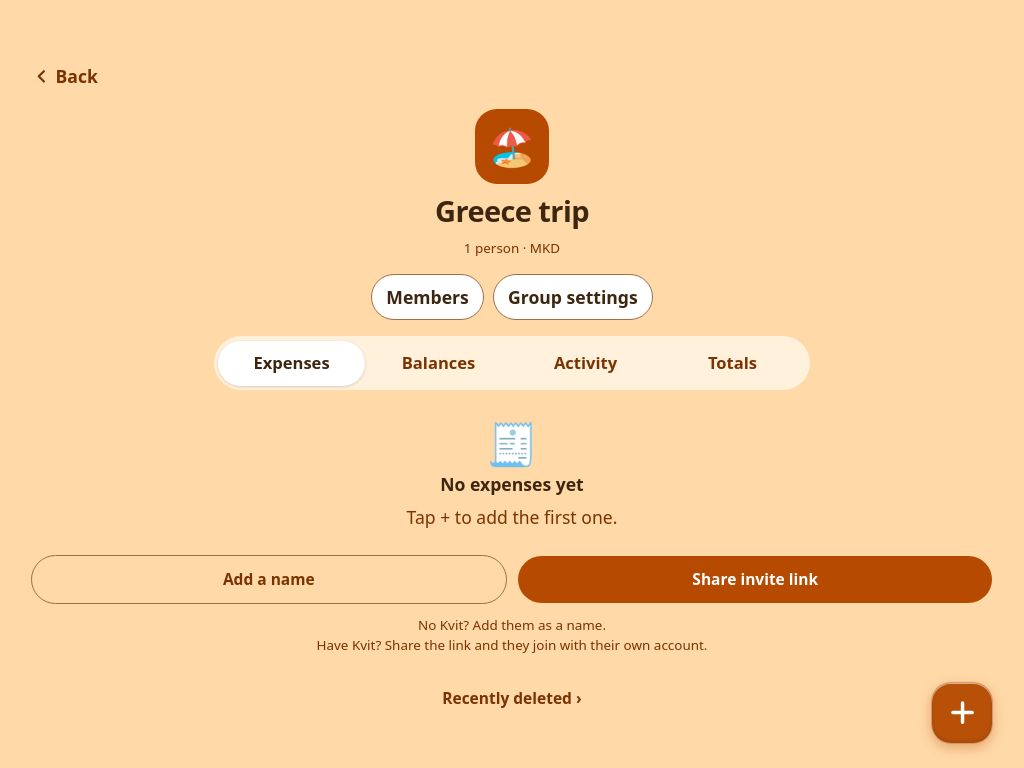
GroupScreen › adding a name › opens a sheet with the name field, its hint and the Add button when Add a name is pressed (en)
The image size is (1024, 768).
Click the button "Add a name": (269, 580) [31,555,507,604]
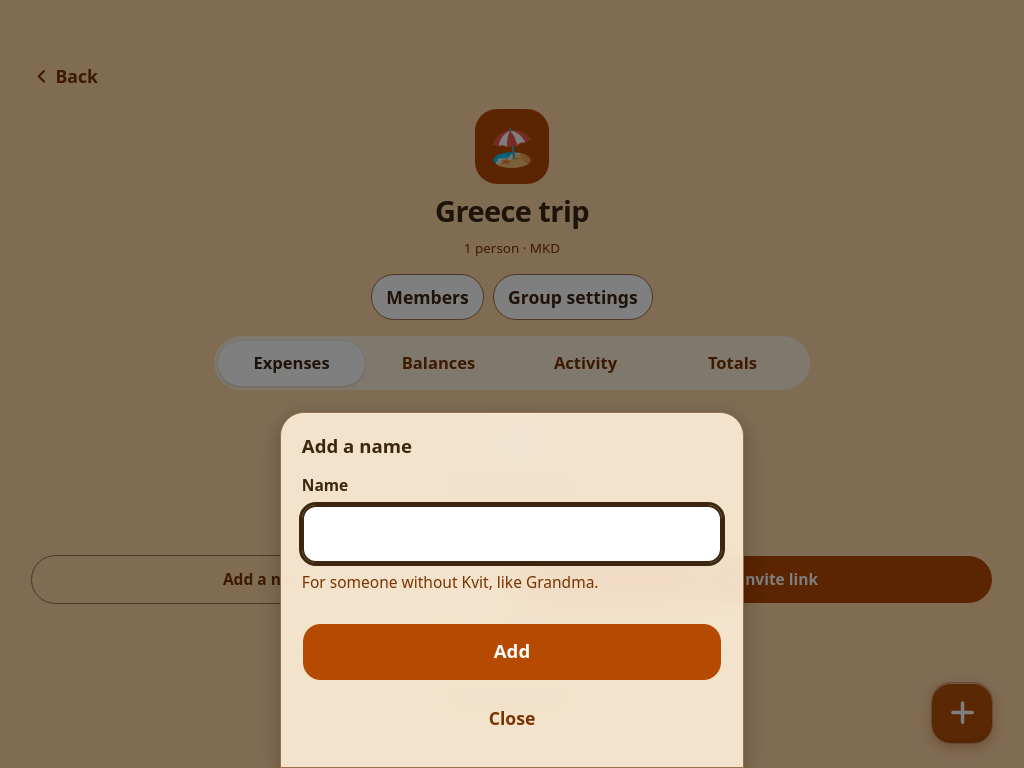
Expected: the dialog "Add a name" is shown, [280,412,744,767]
Expected: the field labelled "Name" is shown, [302,505,722,563]
Expected: the text "For someone without Kvit, like Grandma." is shown, [302,572,598,594]
